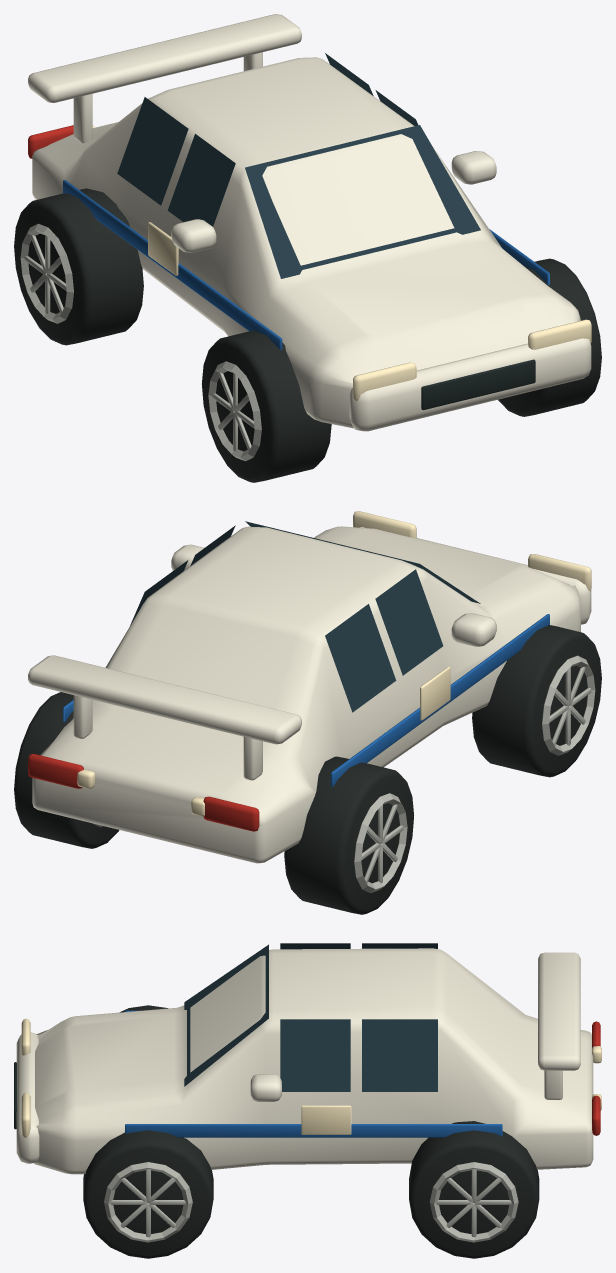
Rendered from car-4.glb.
3 views of the same model, one above another, from view 1: azimuth 30°, elevation 25°; view 2: azimuth 150°, elevation 25°; view 3: azimuth 270°, elevation 25° (orthographic). The views are drawn at different scales.
Visible parts, largest first — view 1: body_surface.004, side_window.004, flat_tyre.017, flat_tyre.016, flat_tyre.018, rally_stripe.004, rim.017, rim.016, intake.004, headlamp_-0.004, headlamp_0.004, door_number.004 (+1 smaller); view 2: body_surface.004, flat_tyre.017, flat_tyre.016, side_window.004, flat_tyre.019, rally_stripe.004, rim.016, rim.017, taillamp_-0.004, taillamp_0.004, door_number.004, headlamp_-0.004 (+1 smaller); view 3: body_surface.004, side_window.004, flat_tyre.019, flat_tyre.018, rally_stripe.004, rim.019, rim.018, door_number.004.
Boxes of the visible parts, x1=… form: body_surface.004: x1=28, y1=14, x2=591, y2=431; side_window.004: x1=117, y1=53, x2=480, y2=278; flat_tyre.017: x1=14, y1=188, x2=143, y2=345; flat_tyre.016: x1=202, y1=330, x2=331, y2=482; flat_tyre.018: x1=498, y1=258, x2=601, y2=416; rally_stripe.004: x1=63, y1=180, x2=549, y2=350; rim.017: x1=20, y1=223, x2=73, y2=323; rim.016: x1=208, y1=361, x2=261, y2=461; intake.004: x1=421, y1=359, x2=535, y2=410; headlamp_-0.004: x1=353, y1=362, x2=416, y2=401; headlamp_0.004: x1=528, y1=319, x2=591, y2=349; door_number.004: x1=148, y1=222, x2=178, y2=275; body_surface.004: x1=28, y1=526, x2=591, y2=863; flat_tyre.017: x1=284, y1=756, x2=413, y2=914; flat_tyre.016: x1=472, y1=625, x2=601, y2=777; side_window.004: x1=130, y1=521, x2=480, y2=712; flat_tyre.019: x1=14, y1=692, x2=119, y2=848; rally_stripe.004: x1=63, y1=614, x2=549, y2=786; rim.016: x1=542, y1=655, x2=595, y2=755; rim.017: x1=354, y1=793, x2=407, y2=893; taillamp_-0.004: x1=203, y1=796, x2=259, y2=831; taillamp_0.004: x1=28, y1=754, x2=83, y2=788; door_number.004: x1=420, y1=666, x2=450, y2=720; headlamp_-0.004: x1=528, y1=554, x2=591, y2=591; body_surface.004: x1=16, y1=948, x2=593, y2=1174; side_window.004: x1=184, y1=943, x2=437, y2=1091; flat_tyre.019: x1=409, y1=1121, x2=539, y2=1258; flat_tyre.018: x1=83, y1=1130, x2=213, y2=1258; rally_stripe.004: x1=125, y1=1010, x2=502, y2=1137; rim.019: x1=429, y1=1162, x2=518, y2=1242; rim.018: x1=104, y1=1162, x2=192, y2=1242; door_number.004: x1=301, y1=1105, x2=351, y2=1134.
Bounding box in the file's own units: 2.72 × 1.86 × 4.69.
